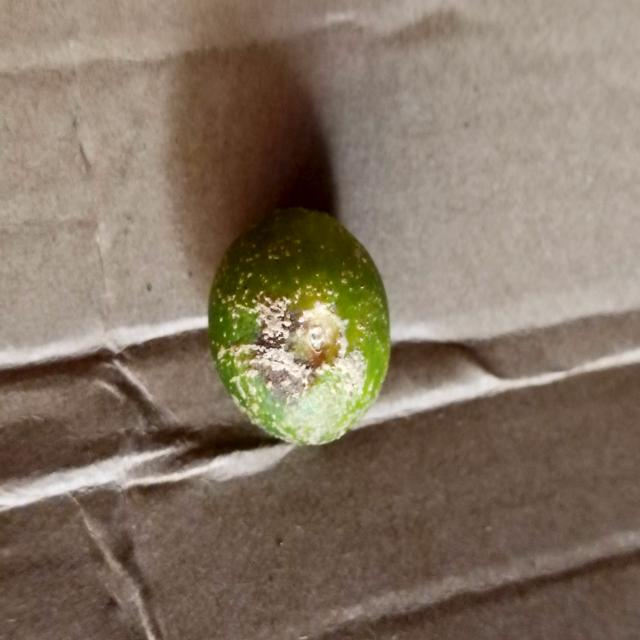scab: (208, 208, 390, 451)
